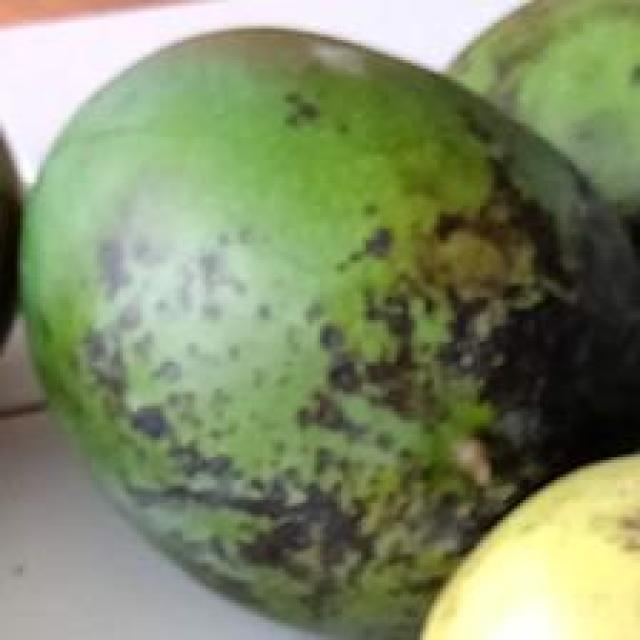Mango: (8, 27, 640, 640)
